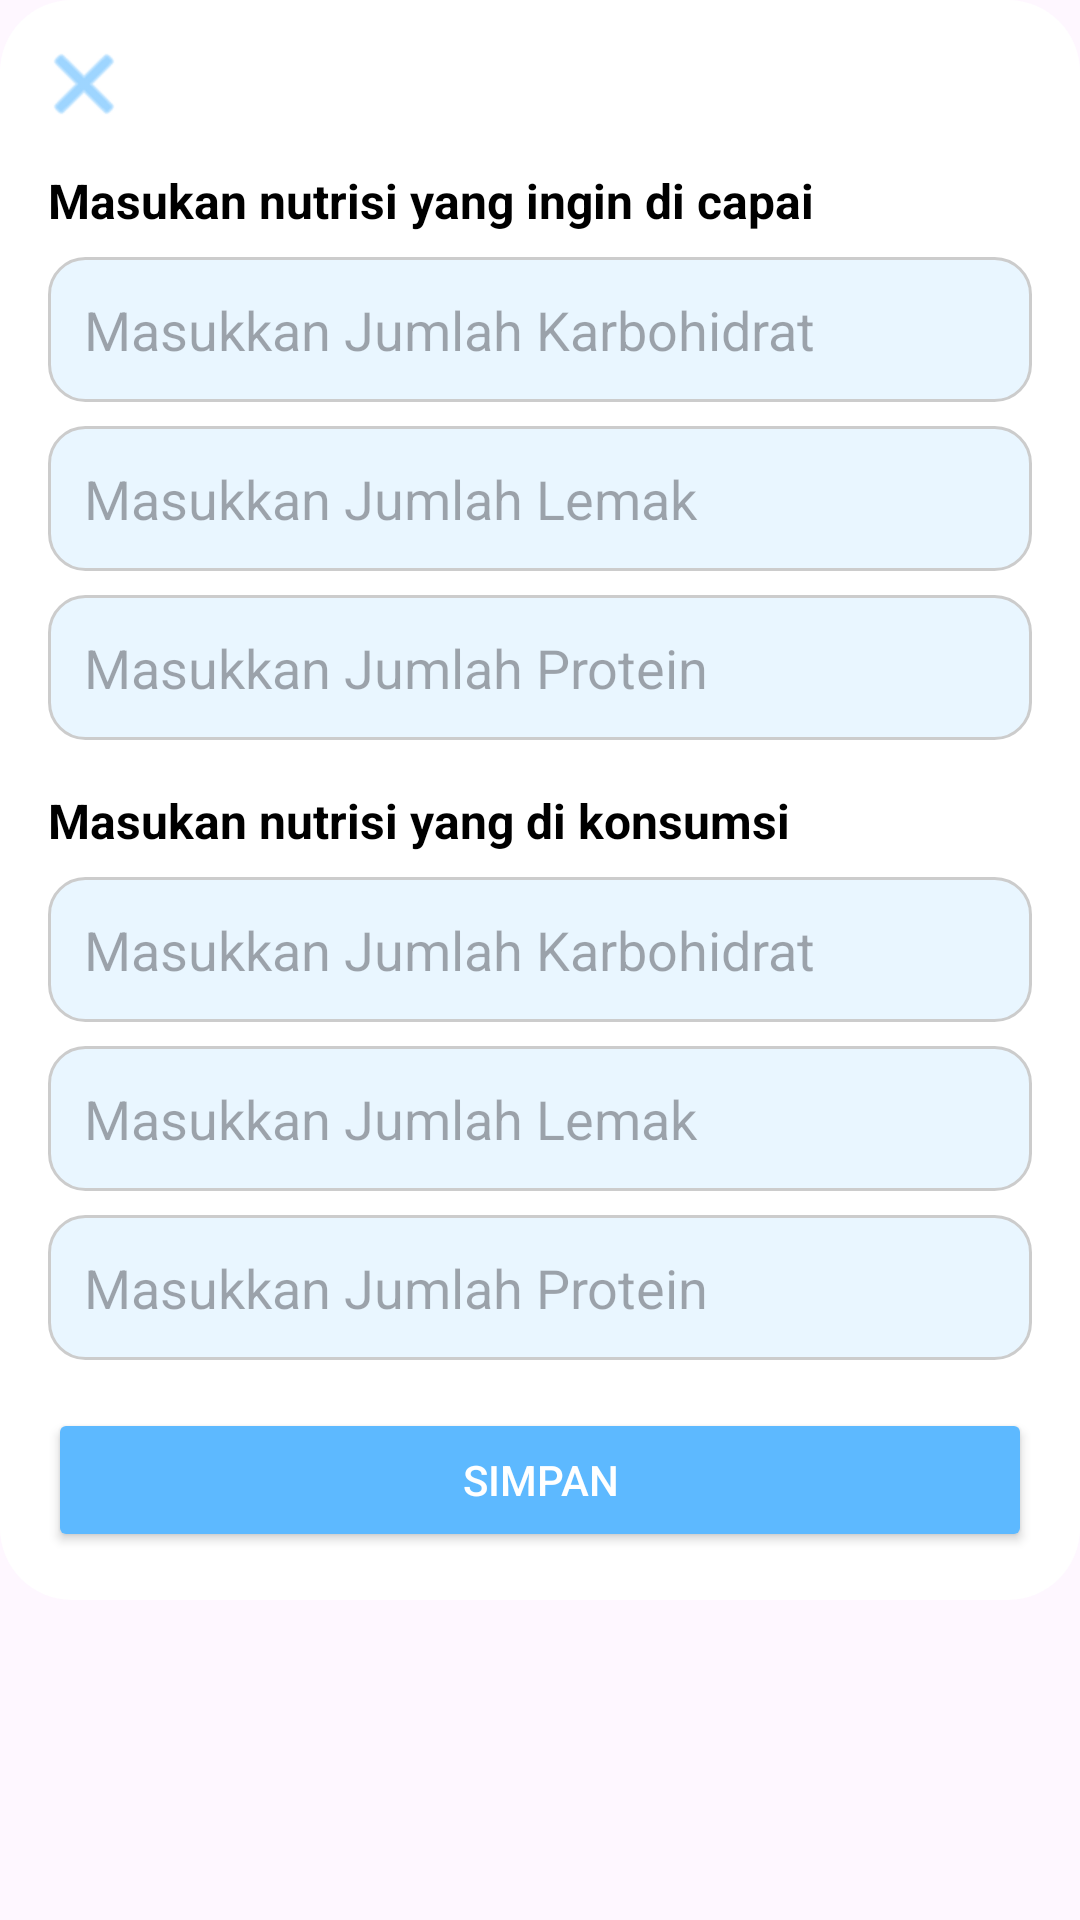

Where icons sit on this 1080w x 1920h app screen, as [x1, y1, x2, y2]:
Tutup: [54, 54, 114, 114]
